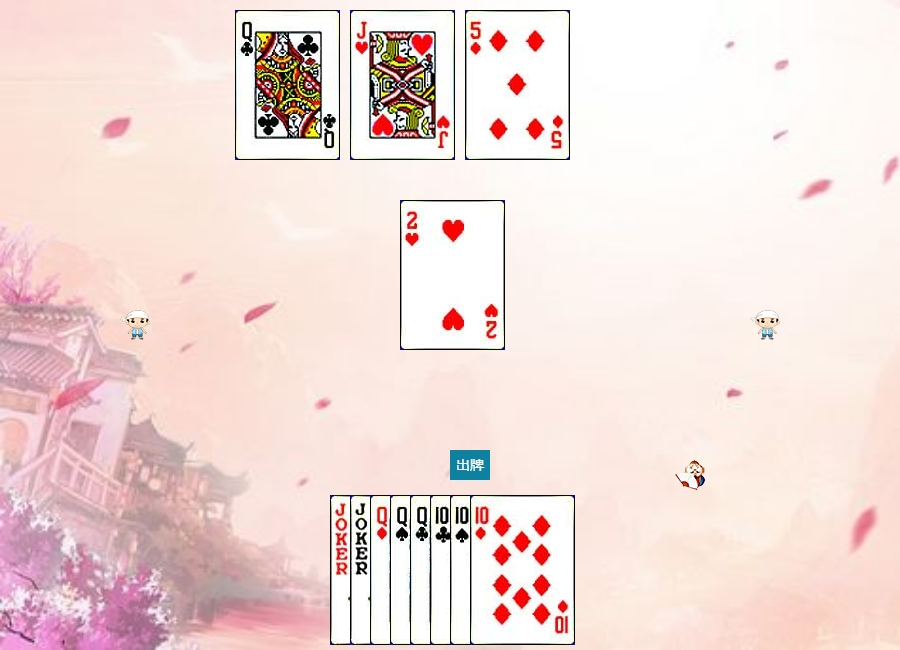10~1: (470, 495, 575, 645)
10~2: (430, 495, 535, 645)
10~4: (450, 495, 555, 645)
11~3: (350, 10, 455, 160)
12~1: (370, 495, 475, 645)
12~2: (235, 10, 340, 160), (410, 495, 515, 645)
12~4: (390, 495, 495, 645)
15~3: (400, 200, 505, 350)
17~3: (350, 495, 455, 645)
18~4: (330, 495, 435, 645)
5~1: (465, 10, 570, 160)
